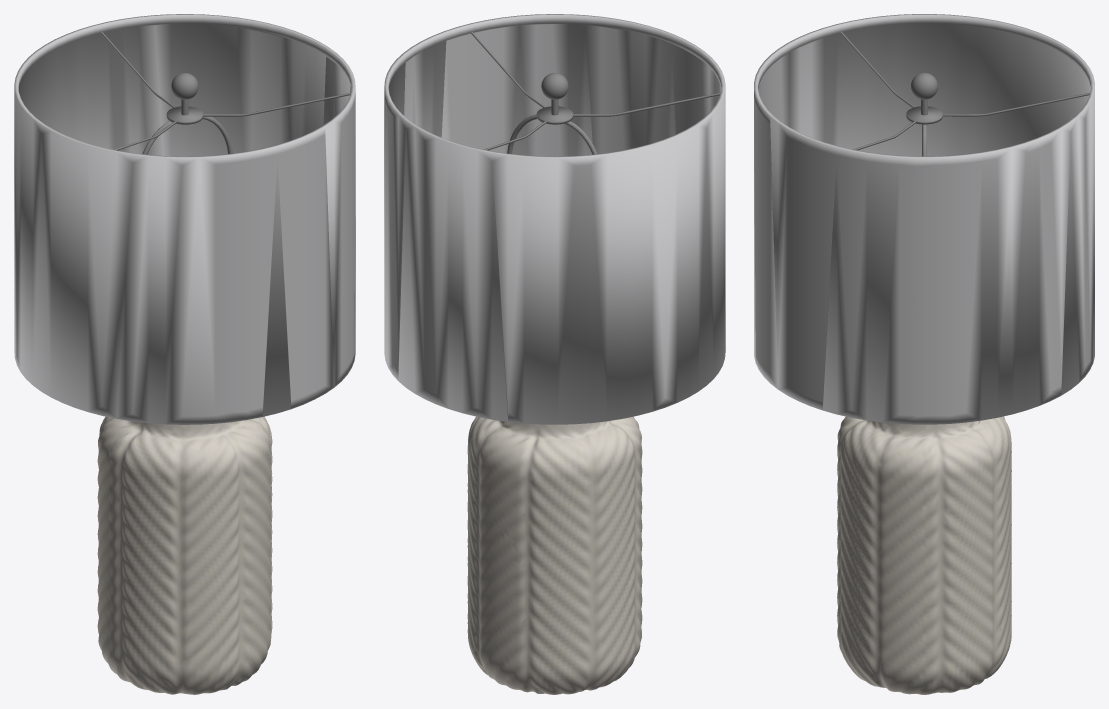
File: B07M6PHS6W.glb
3 views of the same model, side by side, from view 1: azimuth 30°, elevation 25°; view 2: azimuth 150°, elevation 25°; view 3: azimuth 270°, elevation 25° (orthographic).
Parts seen in each view (by area): view 1: RootNode; view 2: RootNode; view 3: RootNode.
Boxes of the visible parts, bbox=[...] form: RootNode: bbox=[14, 14, 355, 694]; RootNode: bbox=[384, 14, 725, 694]; RootNode: bbox=[754, 14, 1094, 694].
Bounding box in the file's own units: 0.2029 × 0.3888 × 0.2029.
Materials: 1 (1 with a texture image).
